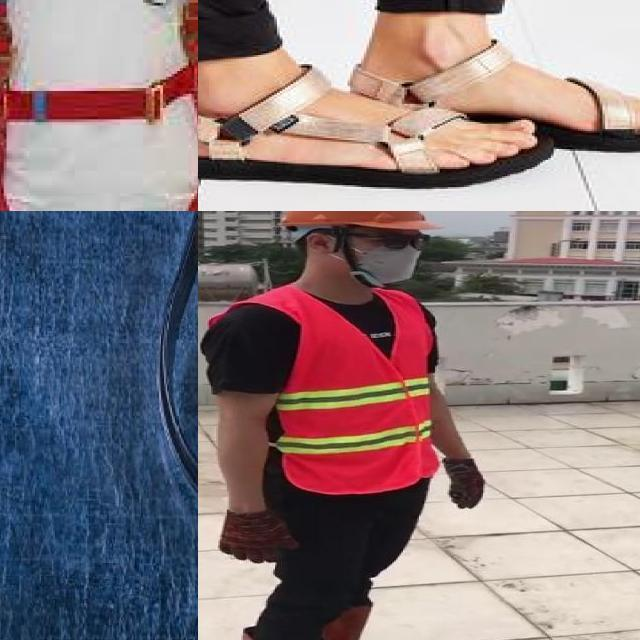Harness: (0, 0, 198, 211)
No_Ear-Protection: (304, 227, 342, 262)
Sandals: (198, 63, 556, 189)
boots: (321, 608, 403, 640)
head_helmet: (273, 211, 432, 232)
person: (198, 211, 485, 640)
vest: (267, 290, 438, 494)
